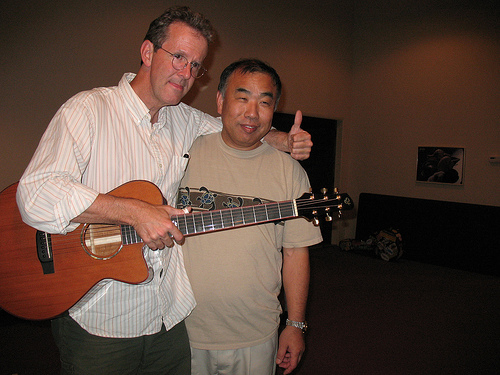guitar: (1, 181, 357, 318)
